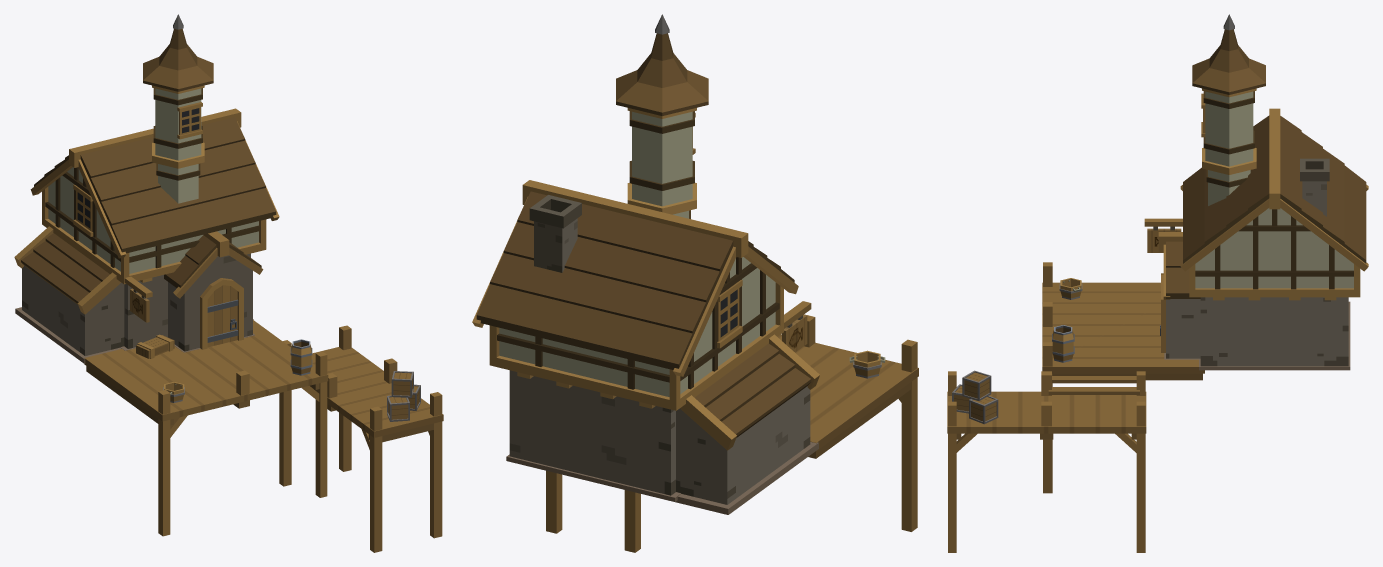
Rendered from SF_Bld_House_Fishing_01.fbx.
3 renders of one model, left to right at view 1: azimuth 30°, elevation 25°; view 2: azimuth 150°, elevation 25°; view 3: azimuth 270°, elevation 25°, orthographic. The views are drawn at different scales.
Parts seen in each view (by area): view 1: SF_Bld_House_Fishing_01; view 2: SF_Bld_House_Fishing_01; view 3: SF_Bld_House_Fishing_01.
Boxes of the visible parts, x1=… form: SF_Bld_House_Fishing_01: x1=14, y1=14, x2=443, y2=552; SF_Bld_House_Fishing_01: x1=472, y1=14, x2=918, y2=552; SF_Bld_House_Fishing_01: x1=947, y1=14, x2=1368, y2=552.
Size of the model in its own units: 15.16 by 27.66 by 22.31.
